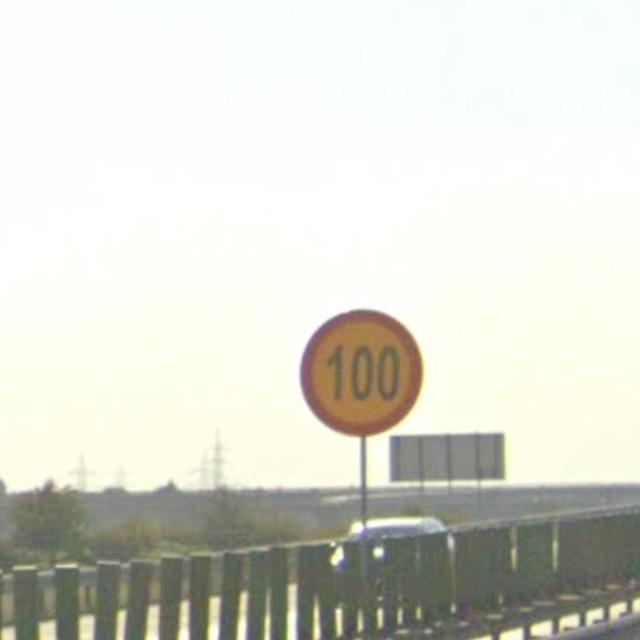forb_speed_over_100: (299, 308, 423, 436)
